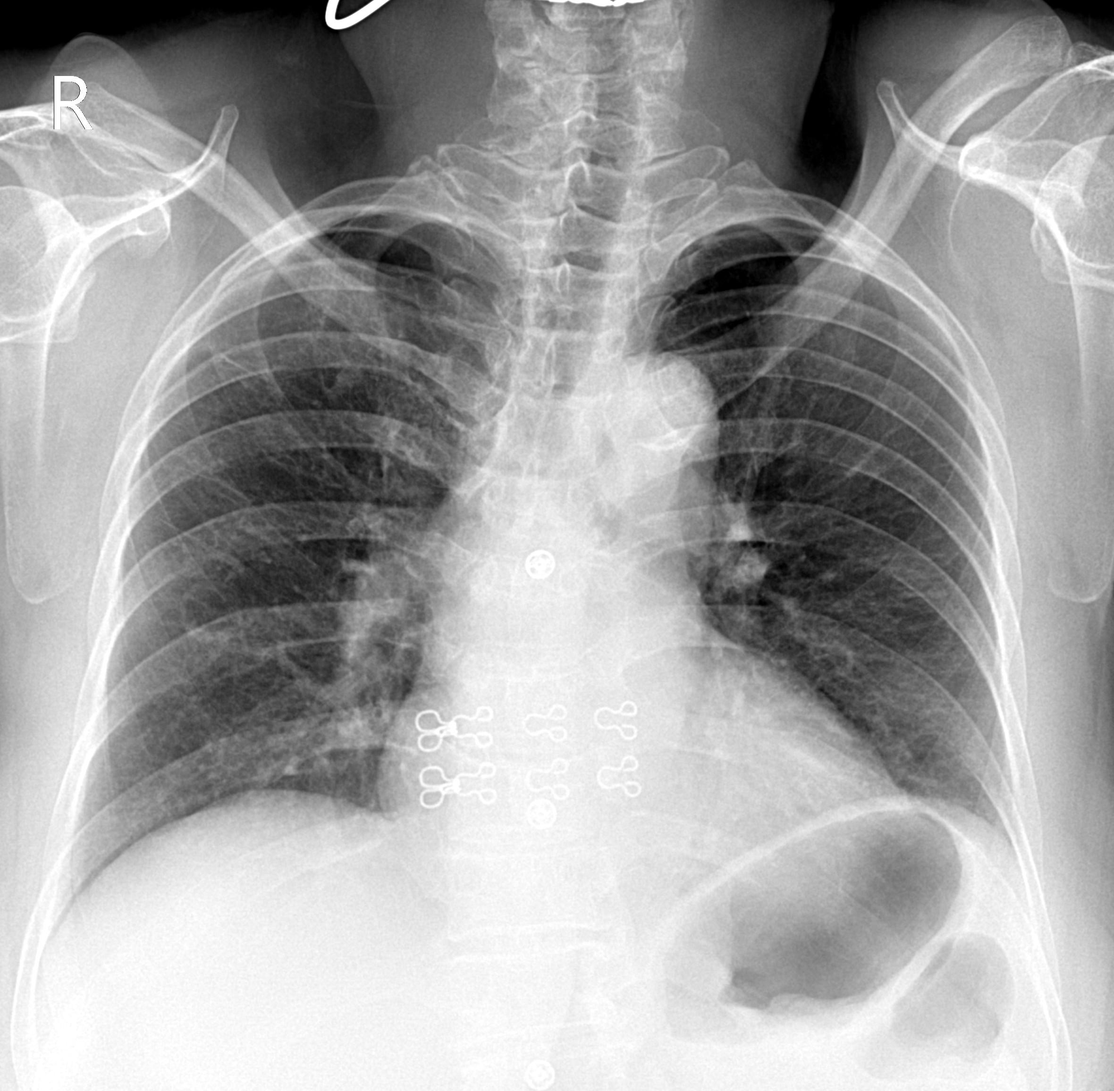Aortic enlargement: (585, 360, 720, 494)
Cardiomegaly: (379, 747, 908, 855)
Pulmonary fibrosis: (209, 345, 273, 383)
